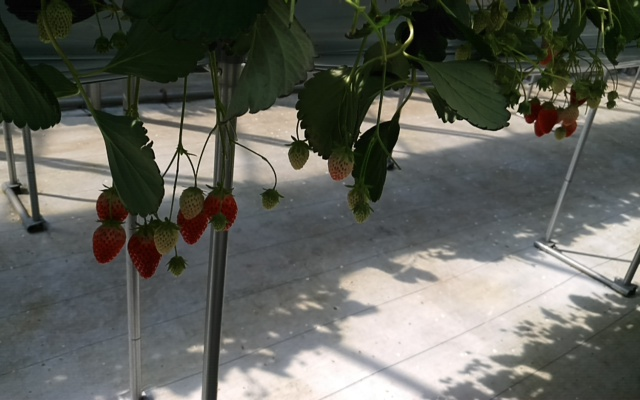GreenStrawberry: (35, 1, 76, 45), (325, 142, 357, 182), (152, 220, 181, 256), (177, 185, 203, 220), (286, 139, 310, 170), (487, 2, 508, 34), (347, 183, 368, 211), (469, 8, 490, 35), (351, 202, 371, 226), (260, 188, 281, 210), (561, 104, 581, 126), (550, 73, 569, 94), (556, 124, 566, 139)
MatureStrawberry: (127, 223, 163, 280), (92, 219, 127, 266), (203, 187, 238, 232), (175, 201, 208, 246), (95, 185, 129, 227), (536, 100, 557, 137), (523, 94, 542, 123)
